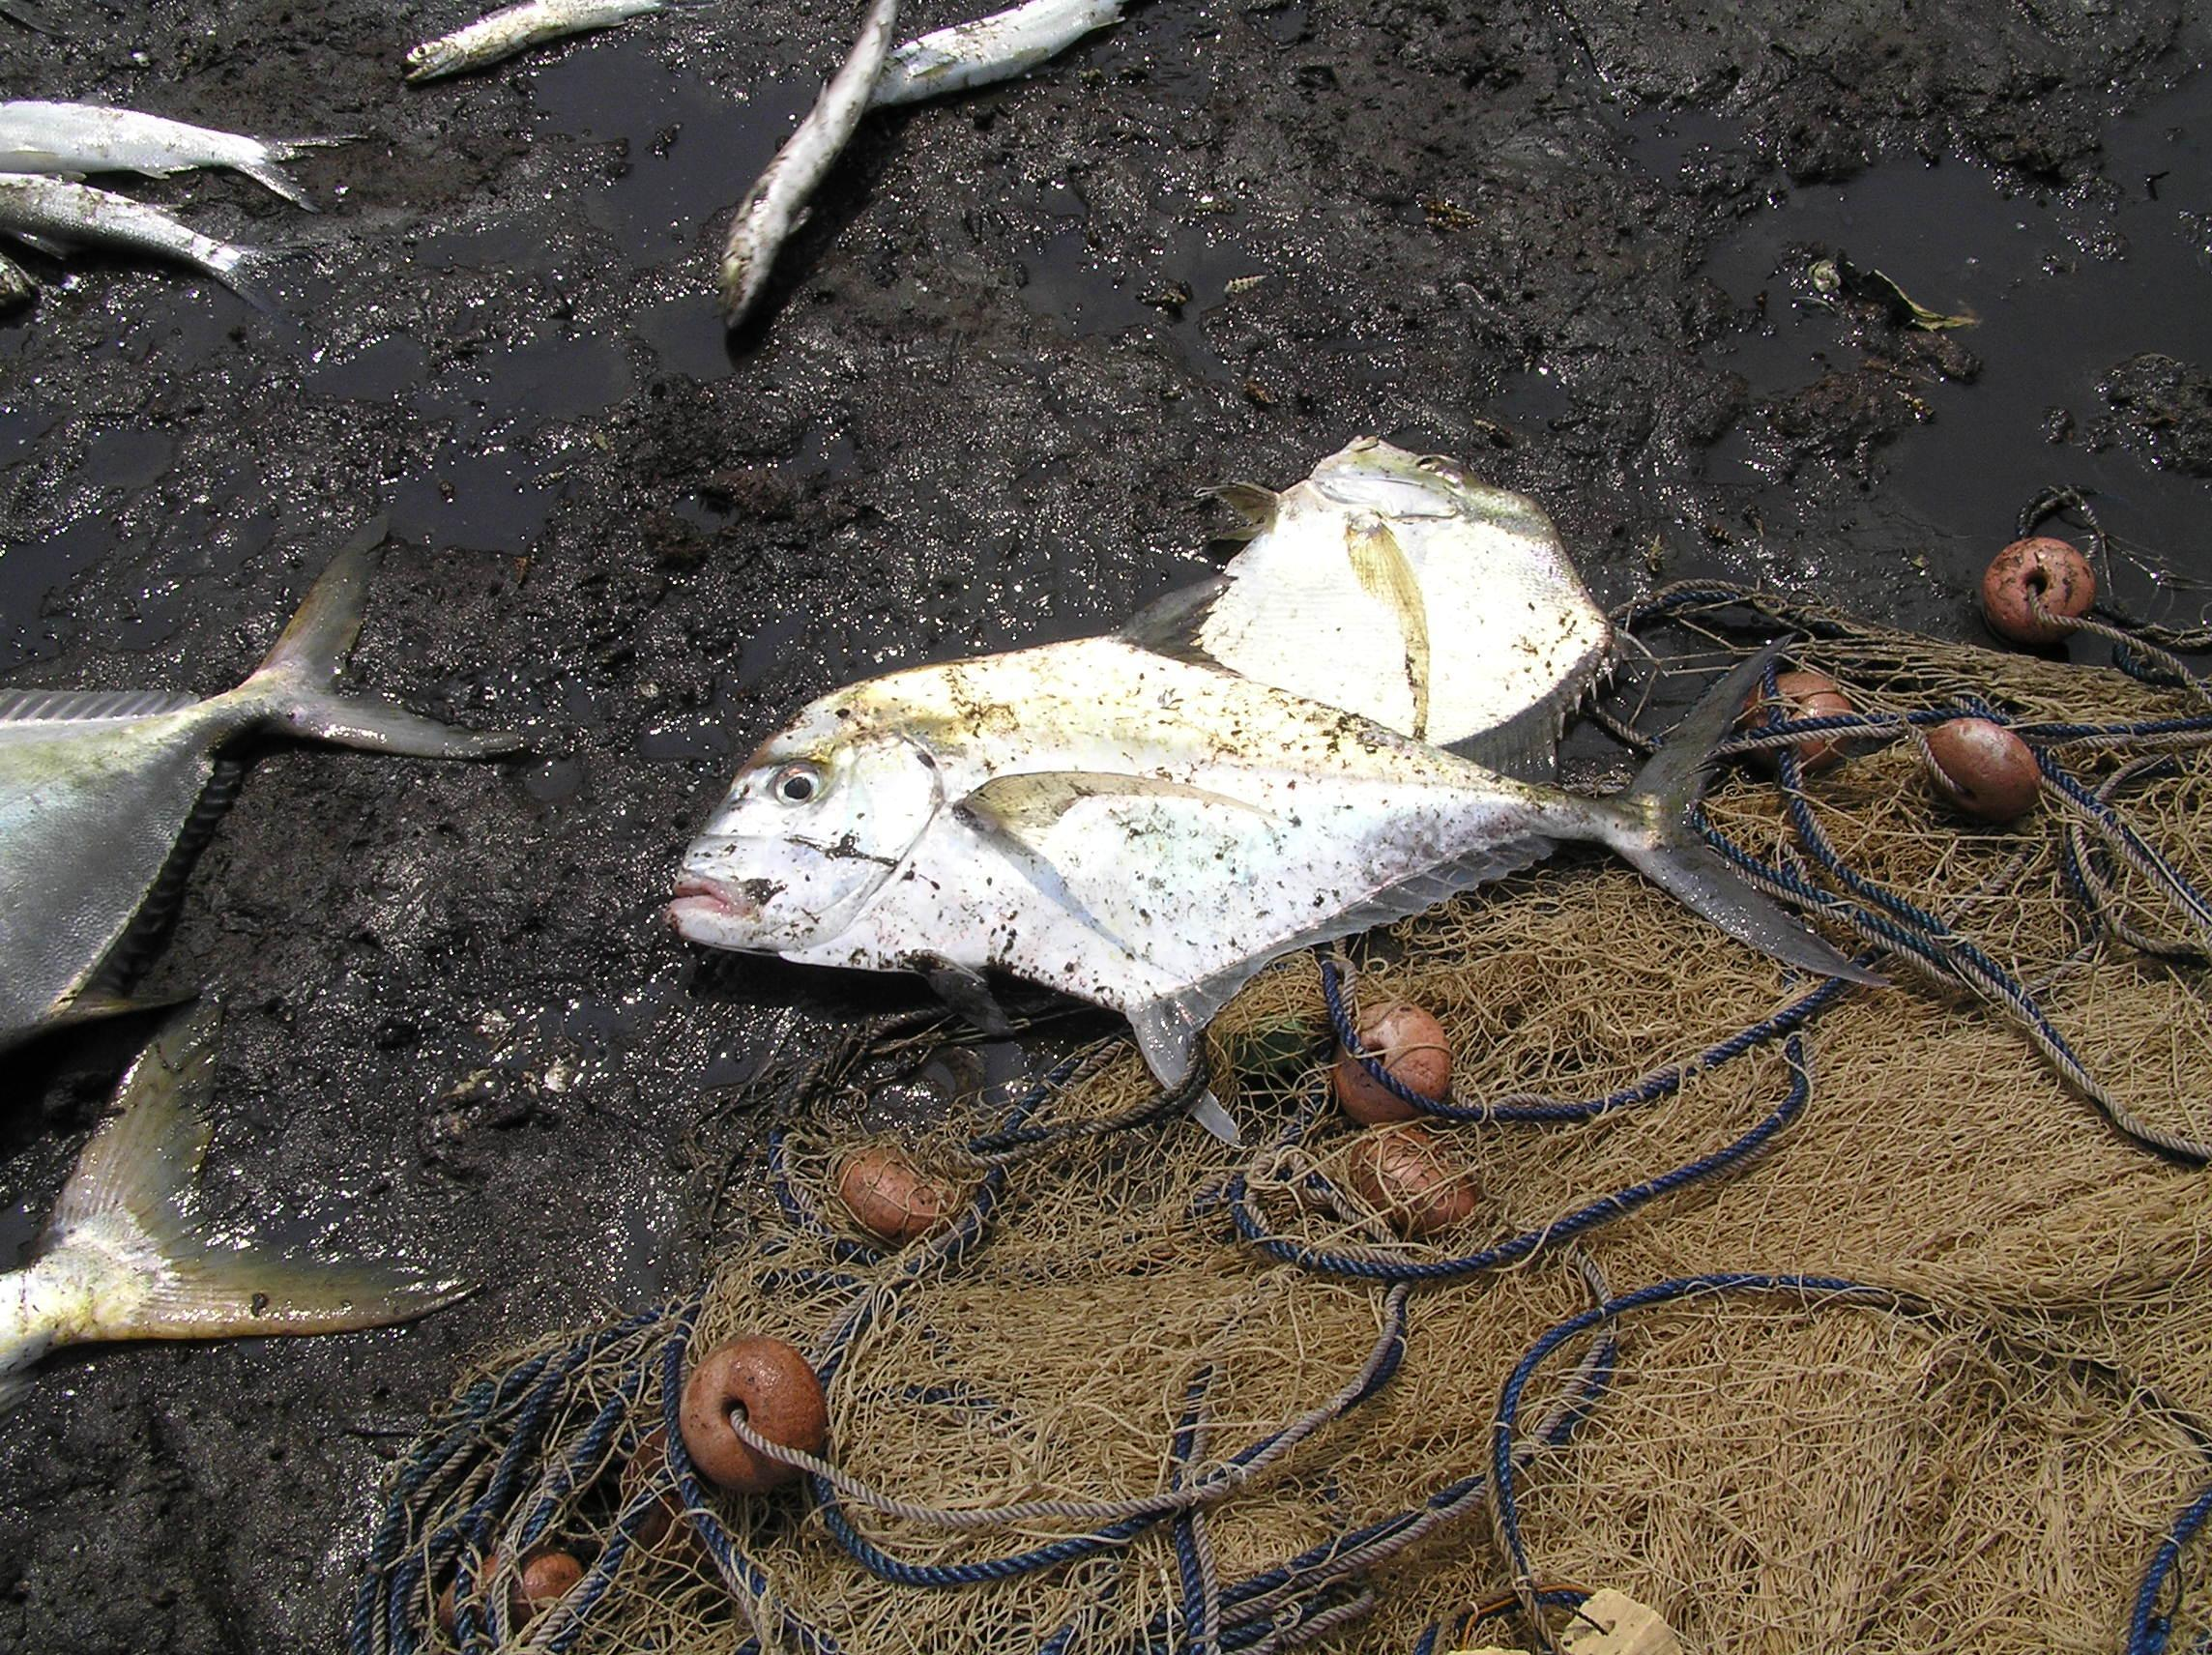Fish: (680, 626, 1873, 1144)
